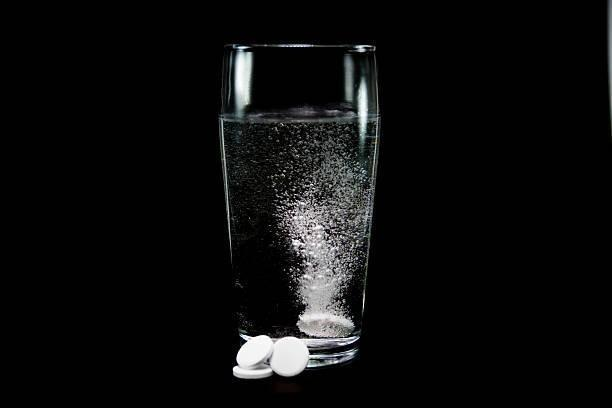glass-normal: (217, 40, 384, 367)
